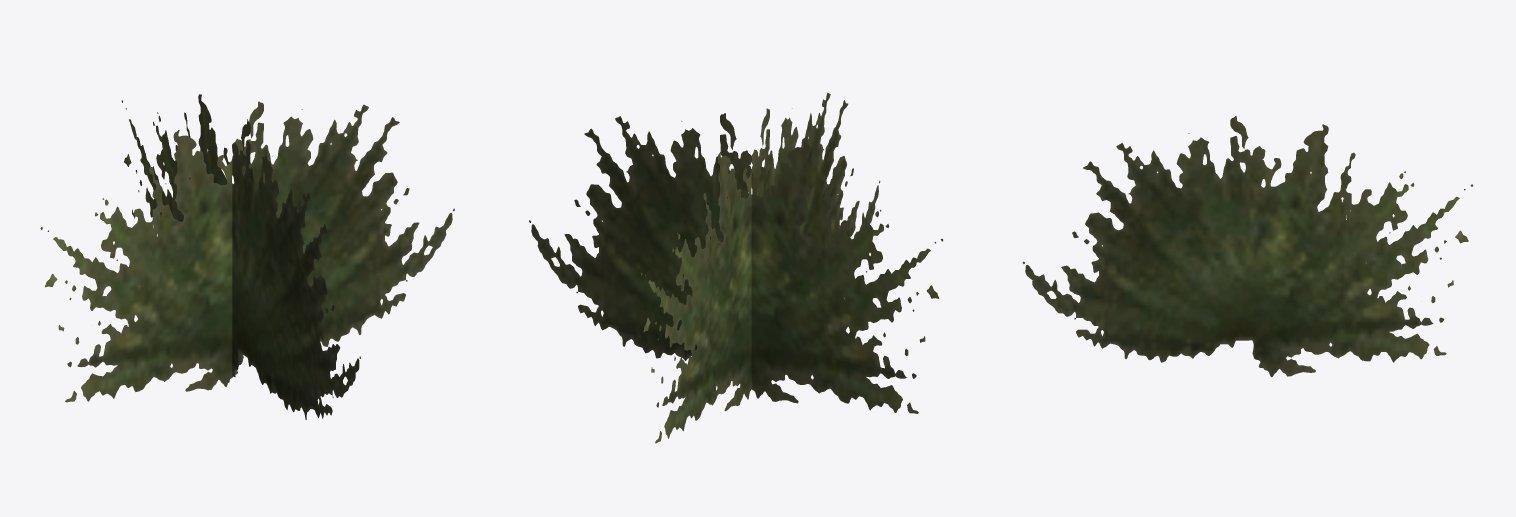
Rendered from shrb_arid_green_a1_l1.fbx.
3 renders of one model, left to right at view 1: azimuth 30°, elevation 25°; view 2: azimuth 150°, elevation 25°; view 3: azimuth 270°, elevation 25°, orthographic. The views are drawn at different scales.
Visible parts, largest first — view 1: mesh_node; view 2: mesh_node; view 3: mesh_node.
Boxes of the visible parts, box(x1,y1,x2,y2) form: mesh_node: box(40, 94, 454, 419); mesh_node: box(529, 92, 943, 443); mesh_node: box(1022, 116, 1473, 377).
Size of the model in its own units: 3.1 by 1.87 by 3.1.
1 material, 1 textured.
